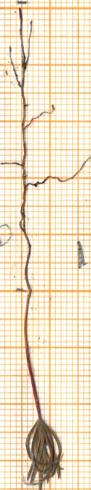flower: (12, 413, 72, 490)
root: (0, 1, 91, 293)
stem: (21, 291, 45, 416)
